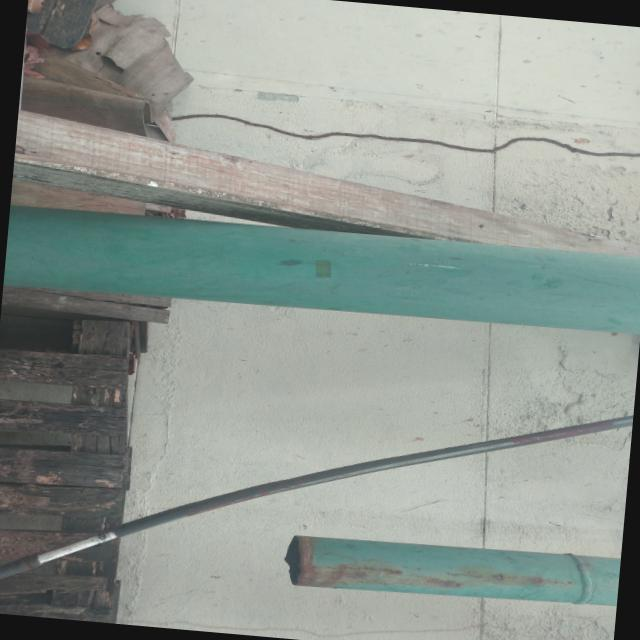gas: (9, 205, 640, 331), (295, 535, 618, 605)
